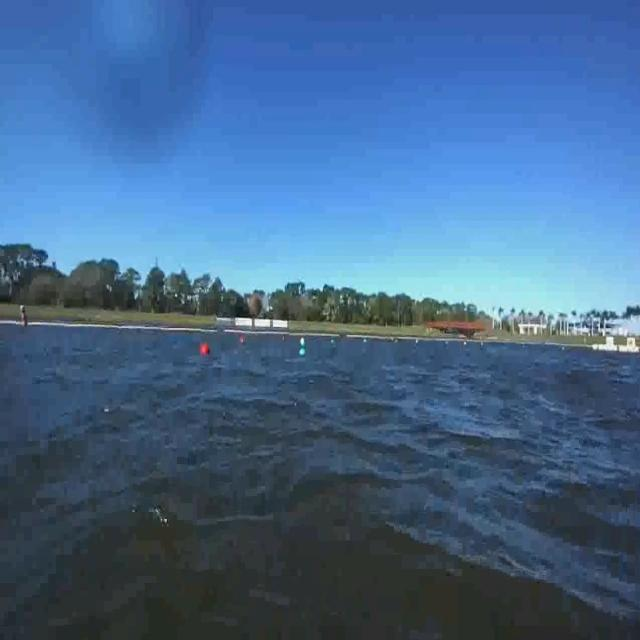green-buoy: (298, 344, 306, 359)
red-buoy: (200, 344, 210, 356)
